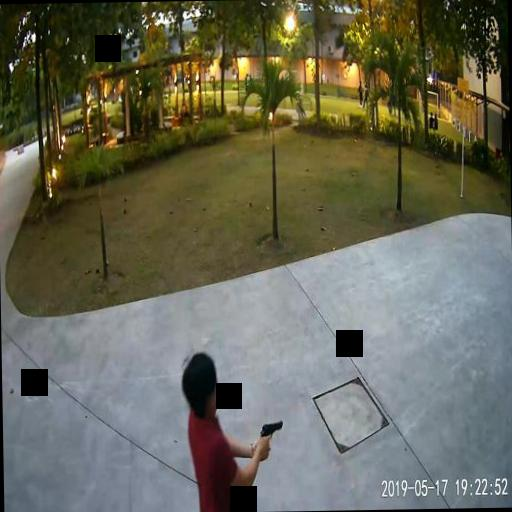Handgun: (258, 419, 282, 458)
